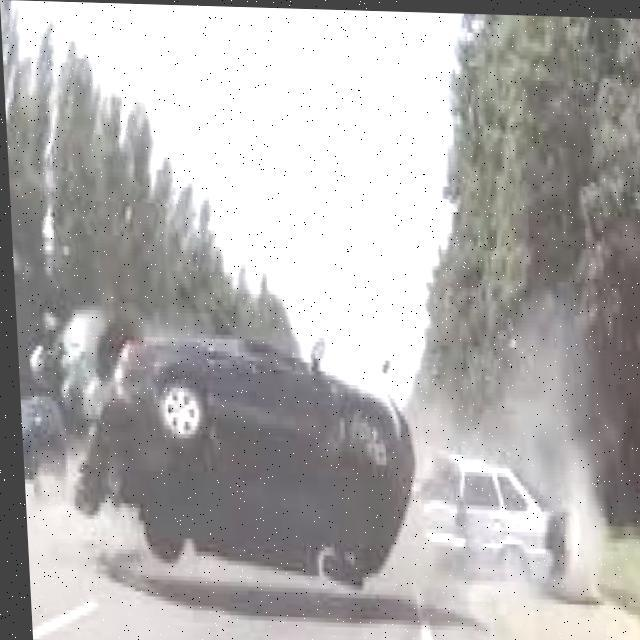single accident: (65, 270, 443, 640)
